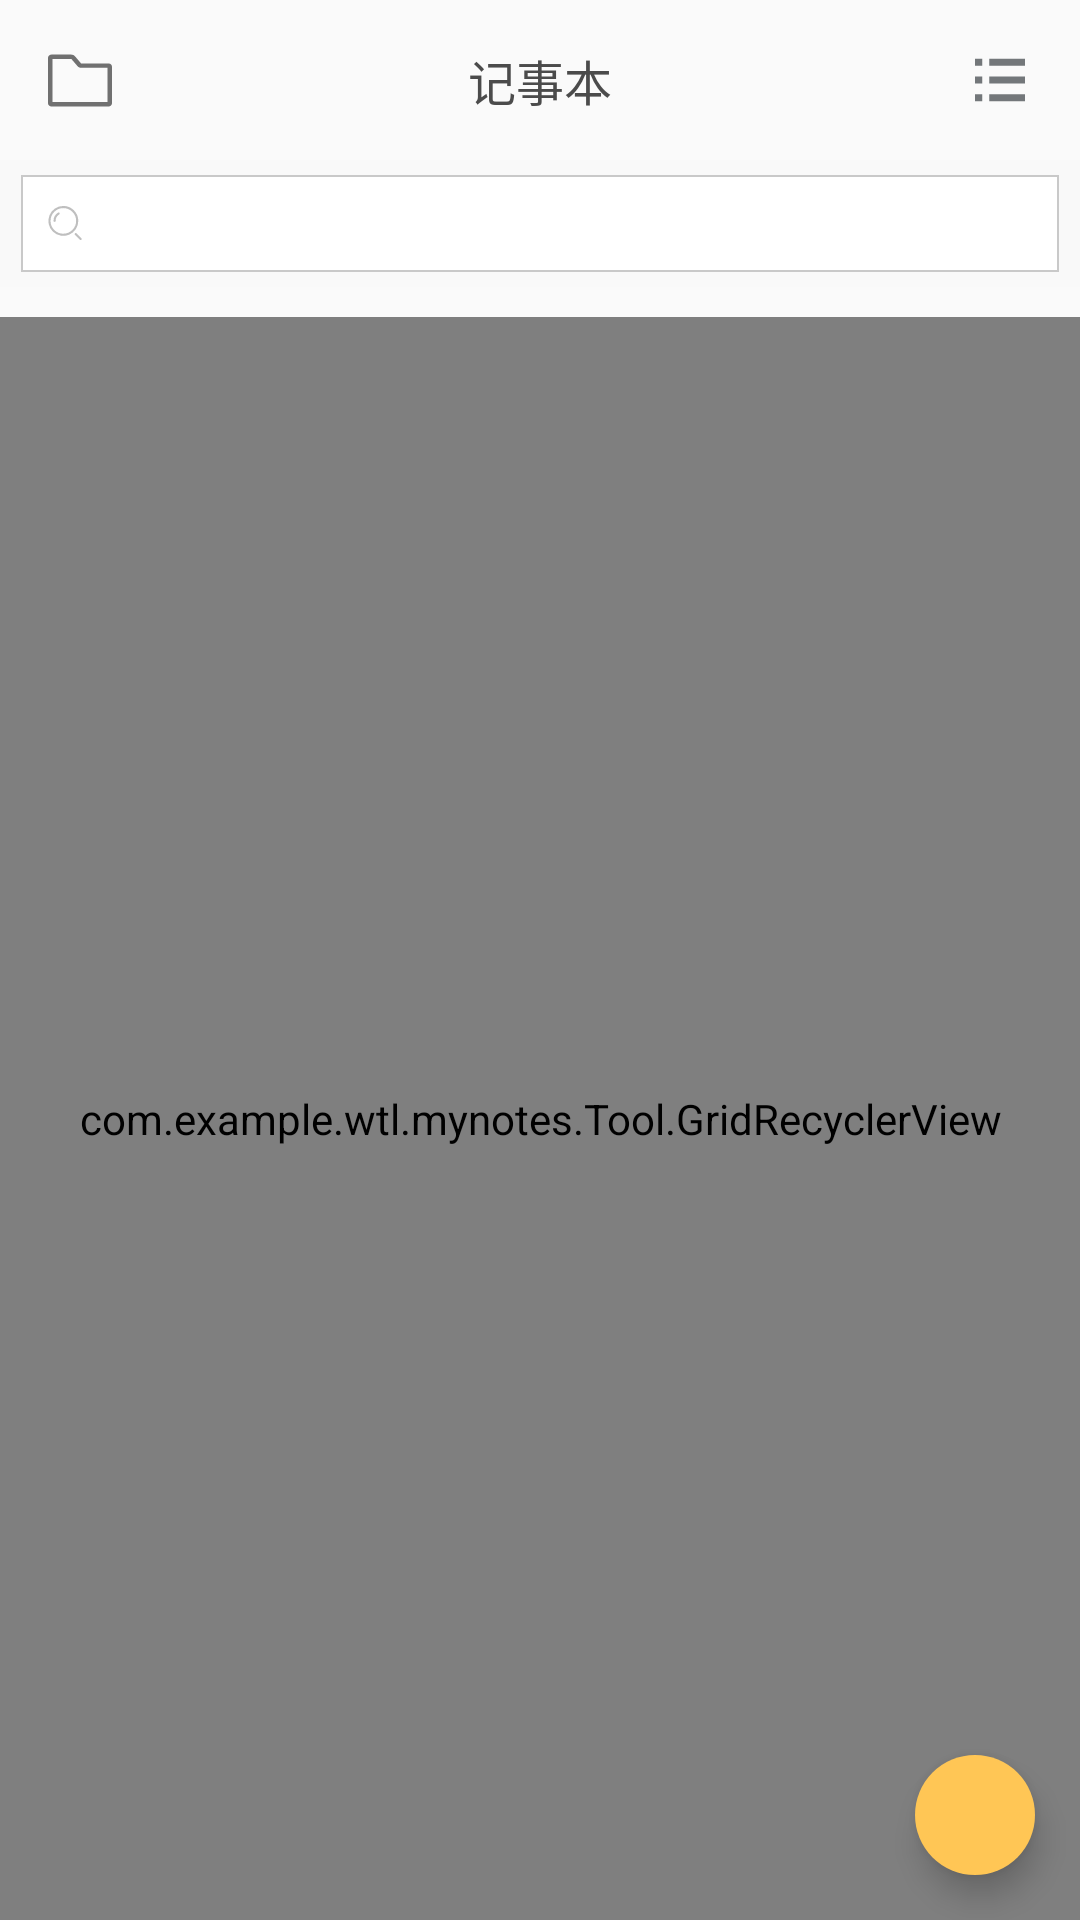

Named icons in this screenshot (1080×1920) and their bounding boxes, (x1=x1, y1=y1, x2=x2, y2=y2):
library: (x1=48, y1=54, x2=112, y2=107)
listview: (x1=975, y1=58, x2=1025, y2=102)
